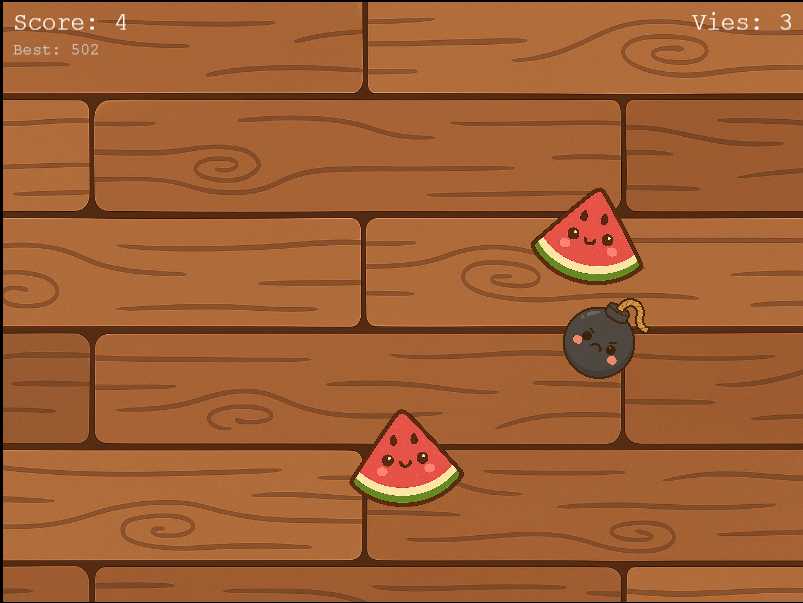bomb: (558, 295, 653, 394)
fruit: (344, 402, 468, 513), (526, 182, 648, 292)
